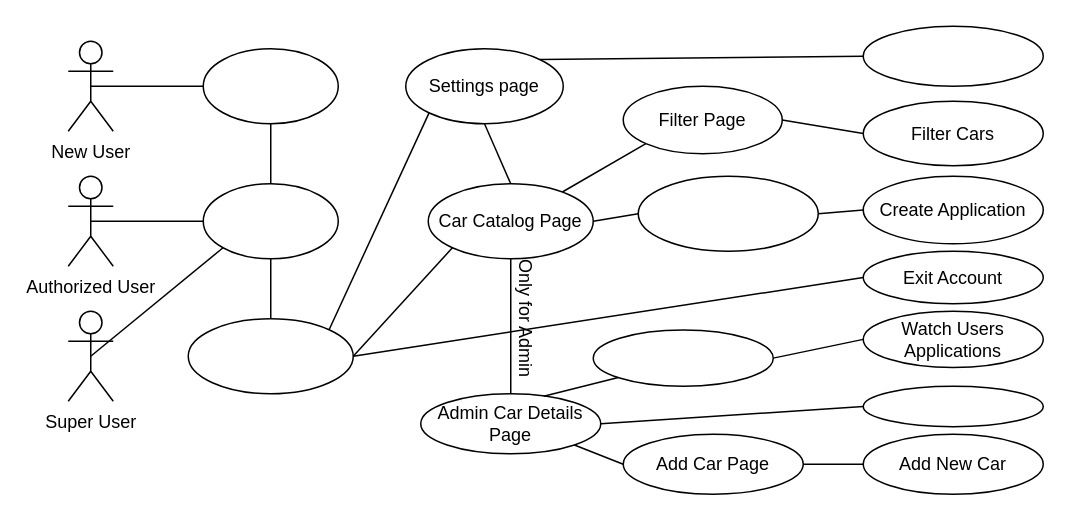
This 1070x521 diagram has some shape labels left out. The shapes that lost their labels are listed below. From the top down, each one's centre as x and y in pixels, then its label:
At pixel 952 55: "Changing Color Theme".
At pixel 270 85: "Registration".
At pixel 270 220: "Login".
At pixel 727 213: "Car Details page".
At pixel 270 355: "Main Page".
At pixel 682 357: "Applications page".
At pixel 952 406: "Delete Car".
